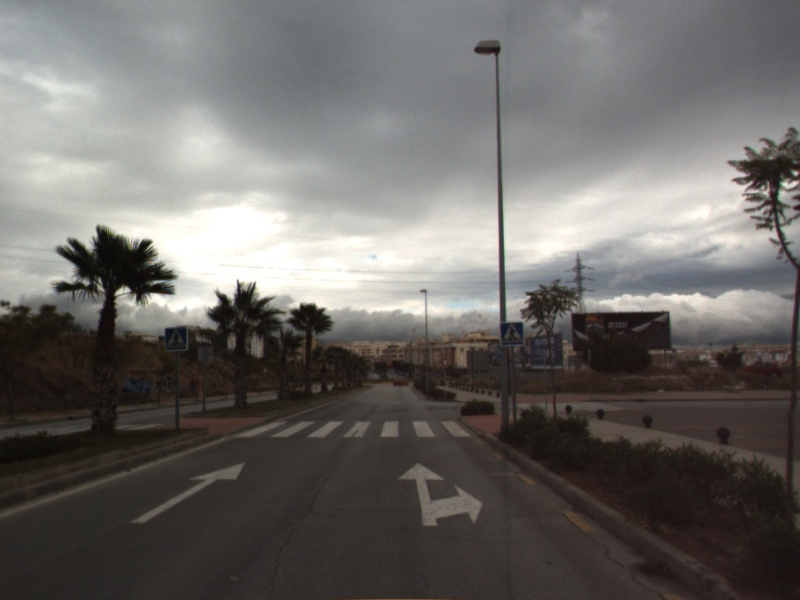STRAIGHT: (129, 460, 247, 525)
STRAIGHT_RIGHT: (395, 460, 485, 528)
